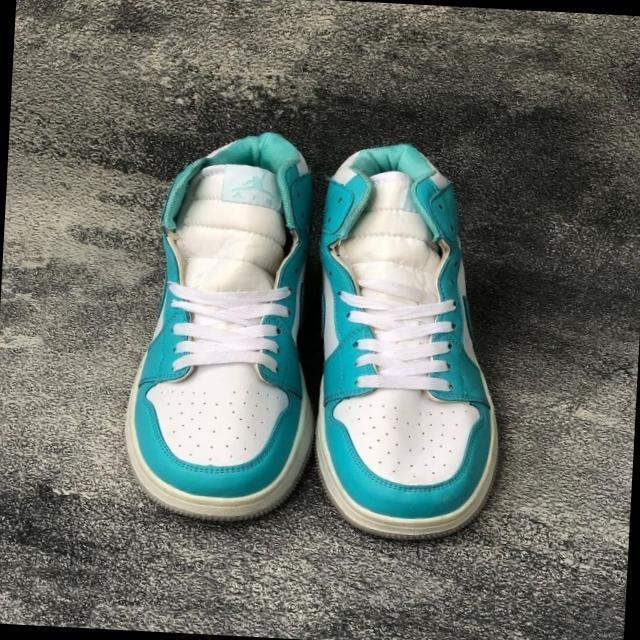nike fake jordan 1: (298, 136, 526, 546), (121, 120, 325, 525)
